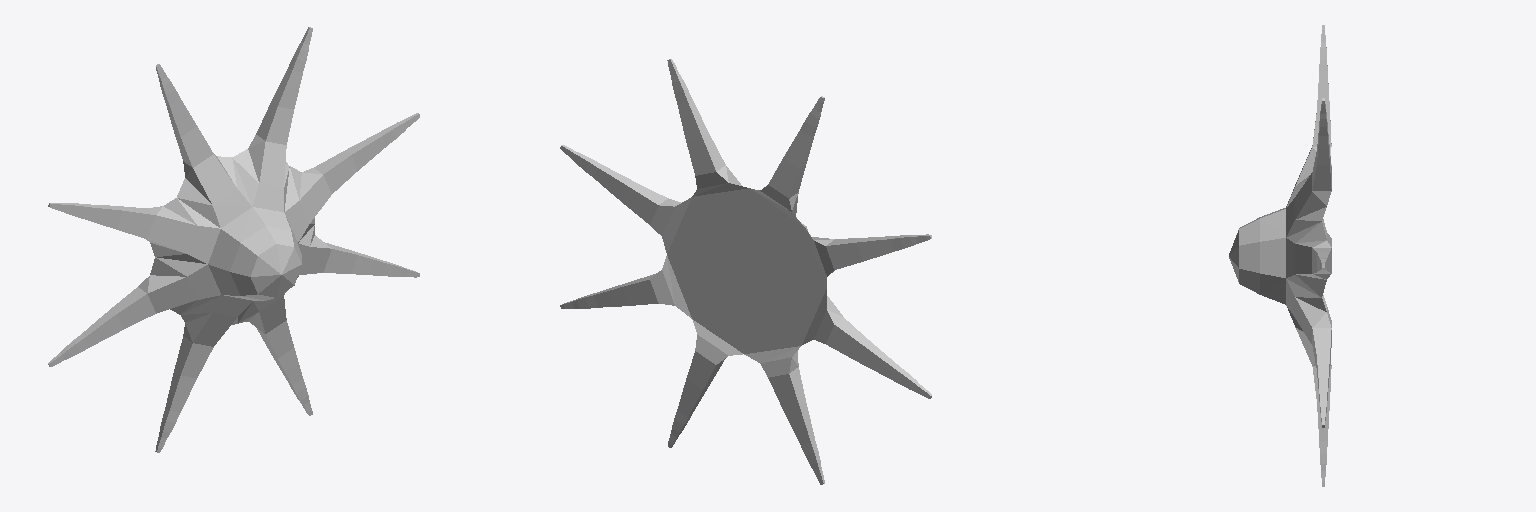
Rendered from octo1.obj.
The picture shows the model from 3 angles: view 1: azimuth 30°, elevation 25°; view 2: azimuth 150°, elevation 25°; view 3: azimuth 270°, elevation 25°; orthographic projection.
Parts seen in each view (by area): view 1: Cylinder; view 2: Cylinder; view 3: Cylinder.
Part boxes in pixels (left/top/right/bottom): Cylinder: left=48, top=27, right=419, bottom=452; Cylinder: left=560, top=59, right=931, bottom=484; Cylinder: left=1229, top=25, right=1331, bottom=486.
Bounding box in the file's own units: 9.93 × 9.93 × 2.39.